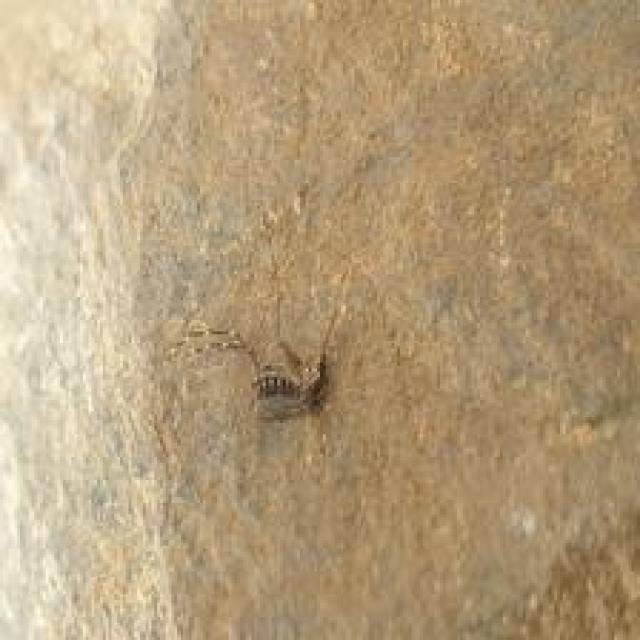Aedes albopictus: (165, 296, 348, 421)
